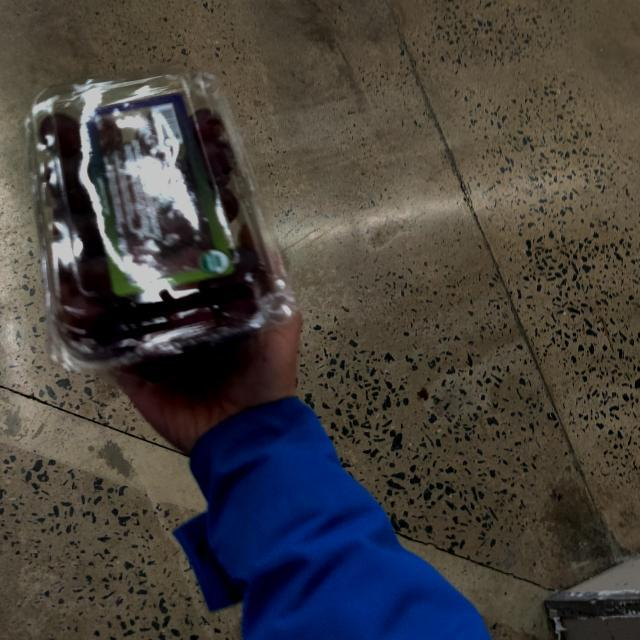Grapes: (29, 70, 288, 379)
